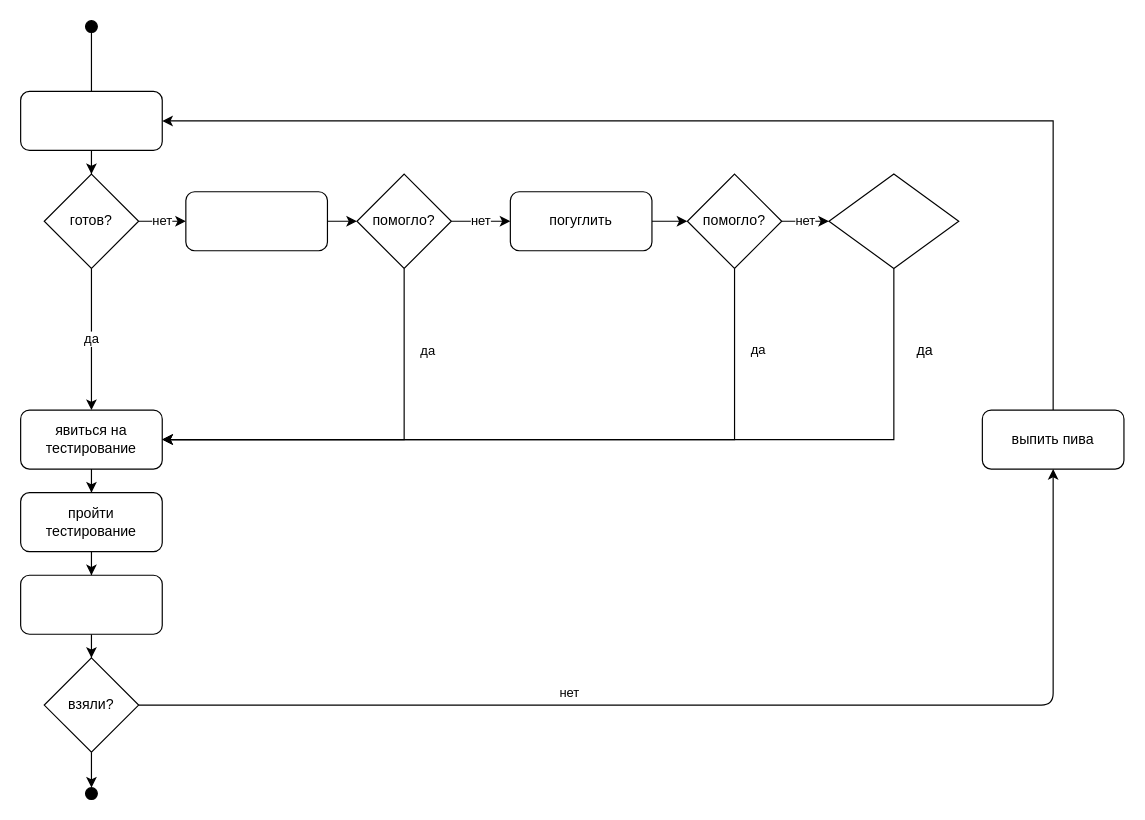
Some shapes in this 1145 by 820 pixel diagram are drawn without their labels. The shapes that lost their labels are listed below. From the top down, each one's centre as x and y in pixels, then its label:
At point 90,120: "начать подготовку".
At point 256,221: "почитать литературу".
At point 893,220: "понадеяться на удачу?".
At point 90,604: "узнать результаты".
